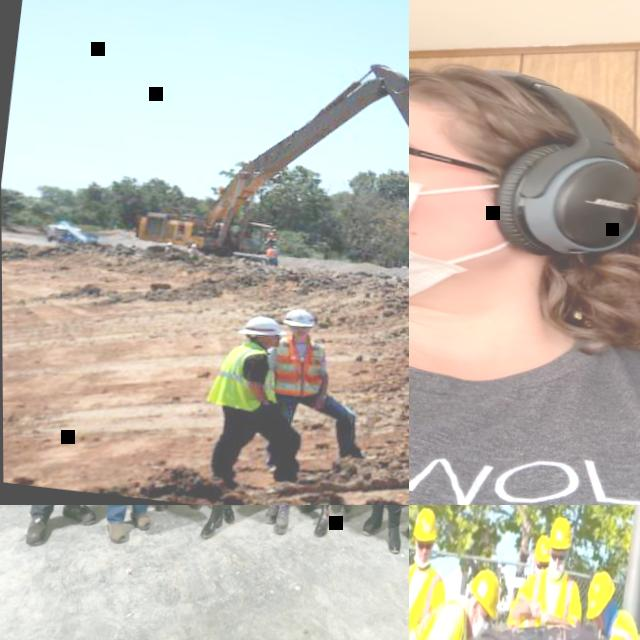Hardhat: (584, 570, 619, 622), (466, 567, 501, 617), (238, 313, 288, 340), (547, 515, 575, 552), (412, 506, 439, 542), (282, 308, 315, 329), (533, 534, 552, 565), (271, 228, 277, 231), (271, 245, 277, 248)
Mask: (409, 152, 518, 320), (467, 603, 489, 640), (546, 556, 566, 582), (534, 567, 543, 576)
NO-Hardhat: (409, 42, 640, 160)
NO-Mask: (288, 330, 311, 339), (265, 338, 281, 348)
NO-Safety Vest: (409, 276, 640, 505)
Person: (409, 21, 640, 505), (195, 310, 318, 490), (253, 305, 381, 477), (509, 510, 593, 635), (409, 556, 503, 640), (409, 505, 456, 640), (507, 533, 551, 628), (265, 244, 280, 266), (264, 227, 279, 248)
Safety Vest: (203, 337, 284, 416), (524, 569, 584, 630), (269, 340, 328, 399), (409, 591, 473, 640), (409, 559, 446, 640), (266, 248, 277, 258), (268, 232, 278, 241)
vehicle: (136, 35, 409, 295)
